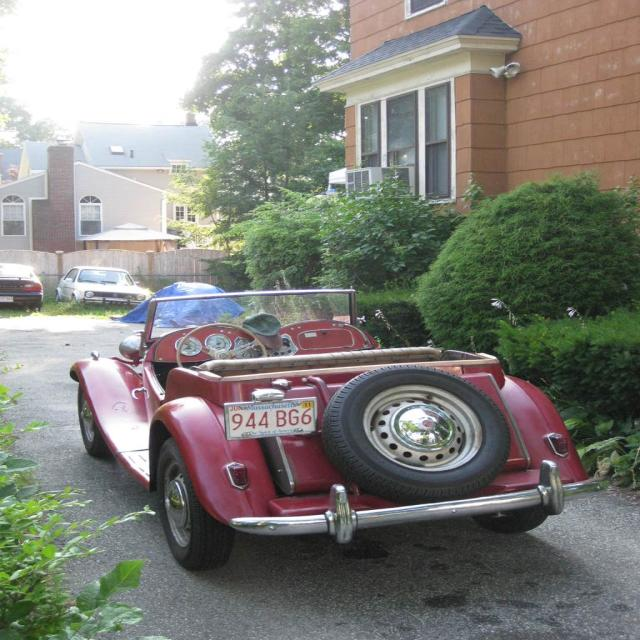car: (68, 280, 590, 570)
